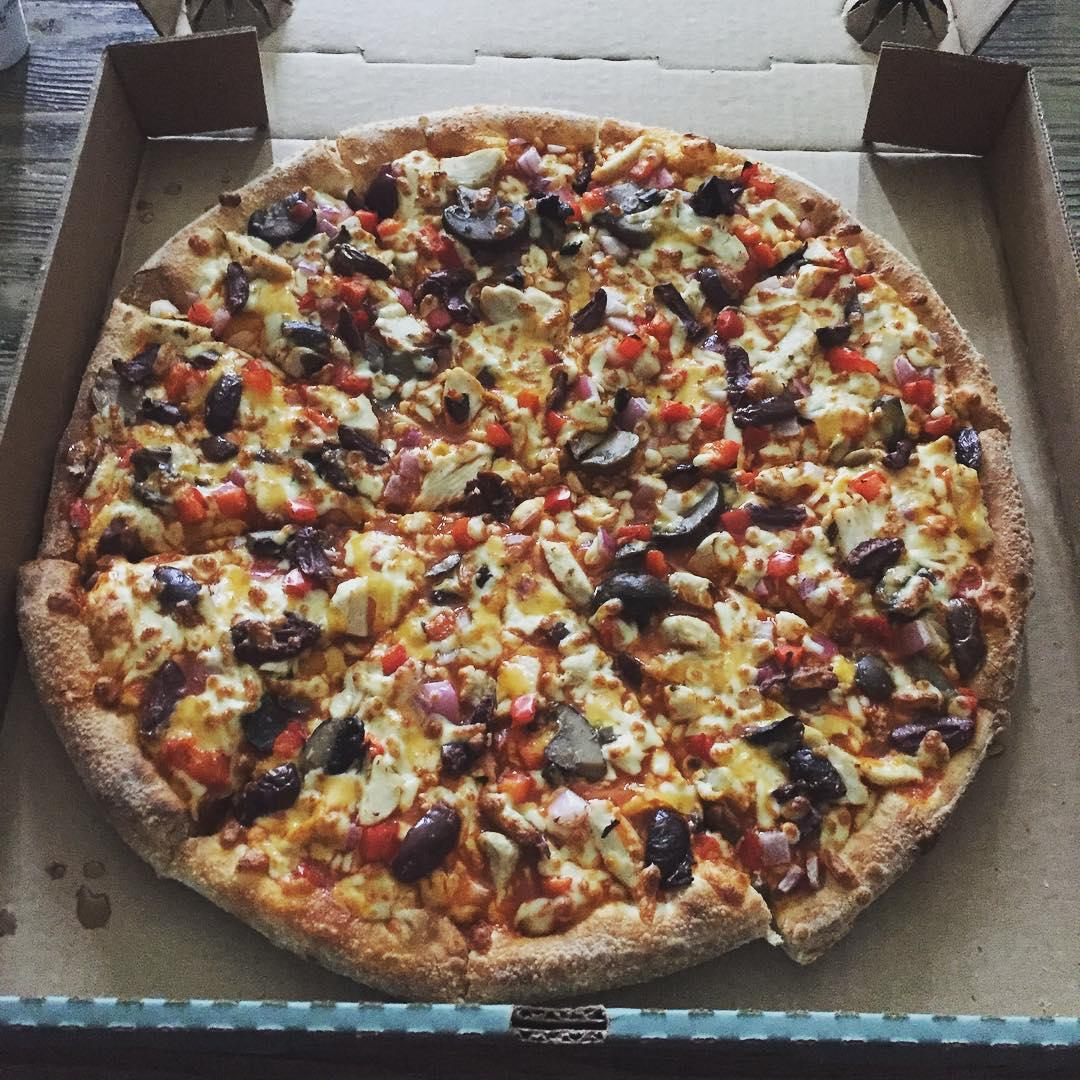Chicken: (327, 533, 428, 634), (550, 795, 635, 874), (751, 316, 821, 403), (540, 531, 599, 618), (363, 291, 436, 358), (474, 282, 568, 334), (358, 757, 419, 822), (396, 149, 503, 185), (417, 449, 488, 503), (217, 227, 286, 280), (865, 759, 930, 797), (667, 609, 717, 640)
Mushroom: (818, 501, 907, 562), (448, 196, 532, 249), (566, 426, 647, 477), (686, 213, 749, 276)
Olives: (753, 711, 846, 804), (643, 496, 727, 552), (298, 713, 372, 774), (388, 813, 460, 875), (941, 596, 989, 687), (638, 808, 689, 882), (606, 546, 665, 604), (148, 563, 205, 622), (193, 371, 244, 430), (276, 318, 332, 369), (691, 176, 742, 224), (851, 648, 891, 700), (468, 476, 509, 515)
Pizza: (28, 116, 1036, 1014)
Tomatoes: (158, 731, 224, 794), (163, 471, 257, 515), (501, 736, 552, 800), (361, 806, 409, 870), (733, 216, 781, 276), (903, 376, 946, 439), (561, 181, 610, 231), (233, 356, 285, 400), (156, 356, 200, 405), (173, 296, 225, 329), (478, 416, 520, 454), (508, 691, 544, 734), (348, 208, 404, 234), (271, 718, 302, 764), (696, 441, 741, 472), (611, 331, 659, 360), (653, 391, 692, 425), (743, 166, 776, 197), (451, 516, 485, 545), (828, 343, 864, 369), (718, 308, 742, 342), (378, 641, 407, 669), (698, 398, 724, 427), (651, 316, 669, 332)
